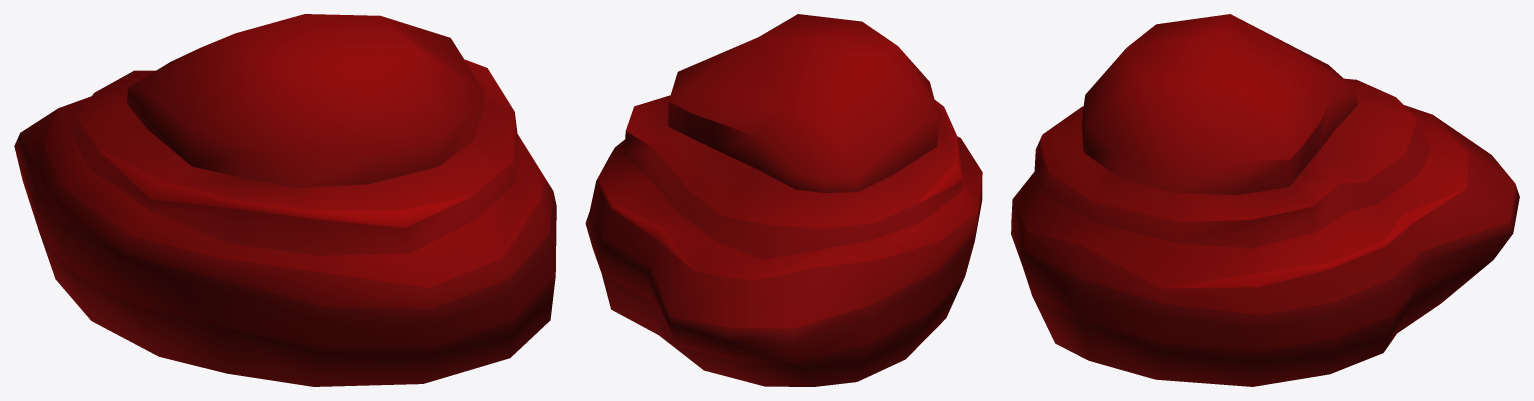
File: geology-rocks-layeredrock_v2.fbx
3 renders of one model, left to right at view 1: azimuth 30°, elevation 25°; view 2: azimuth 150°, elevation 25°; view 3: azimuth 270°, elevation 25°, orthographic. The views are drawn at different scales.
Visible parts, largest first — view 1: LayeredRock_v2; view 2: LayeredRock_v2; view 3: LayeredRock_v2.
Boxes of the visible parts, x1,y1,x2,y2 form: LayeredRock_v2: (14,14,556,386); LayeredRock_v2: (585,14,982,386); LayeredRock_v2: (1011,14,1519,386).
Bounding box in the file's own units: 8.48 × 6.27 × 10.06.
